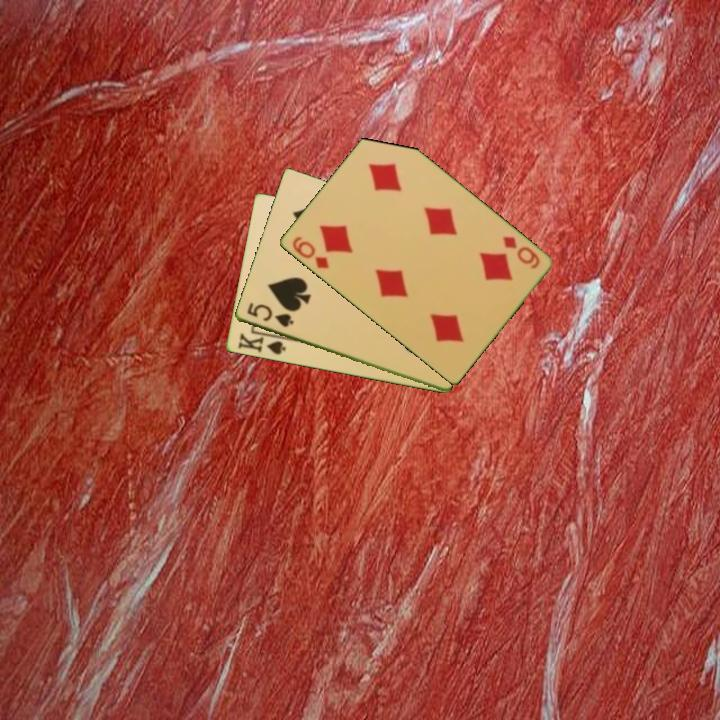5s: (243, 299, 296, 330)
6d: (498, 233, 542, 272), (288, 233, 331, 272)
Ks: (234, 329, 290, 358)
